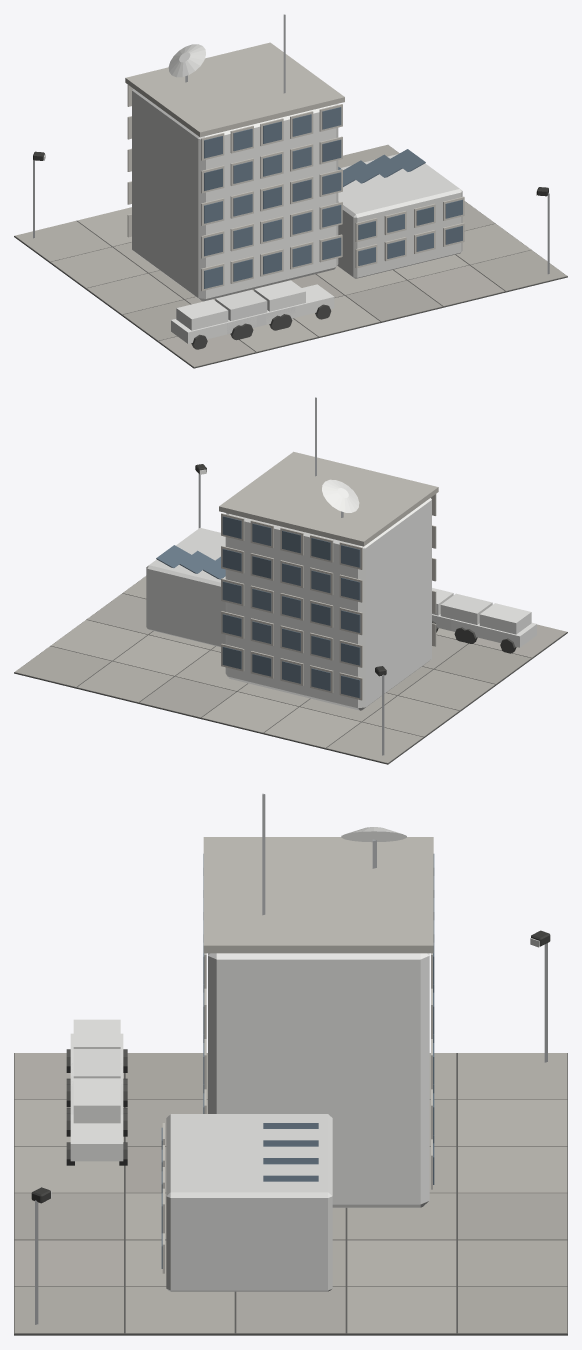
Rendered from b_hitech.glb.
3 renders of one model, top to bottom at view 1: azimuth 30°, elevation 25°; view 2: azimuth 150°, elevation 25°; view 3: azimuth 270°, elevation 25°, orthographic. The views are drawn at different scales.
Visible parts, largest first — view 1: hull; view 2: hull; view 3: hull.
Boxes of the visible parts, left/top/right/bottom form: hull: left=14, top=14, right=567, bottom=368; hull: left=14, top=397, right=567, bottom=764; hull: left=14, top=793, right=567, bottom=1335.
Size of the model in its own units: 24 by 15.5 by 20.
